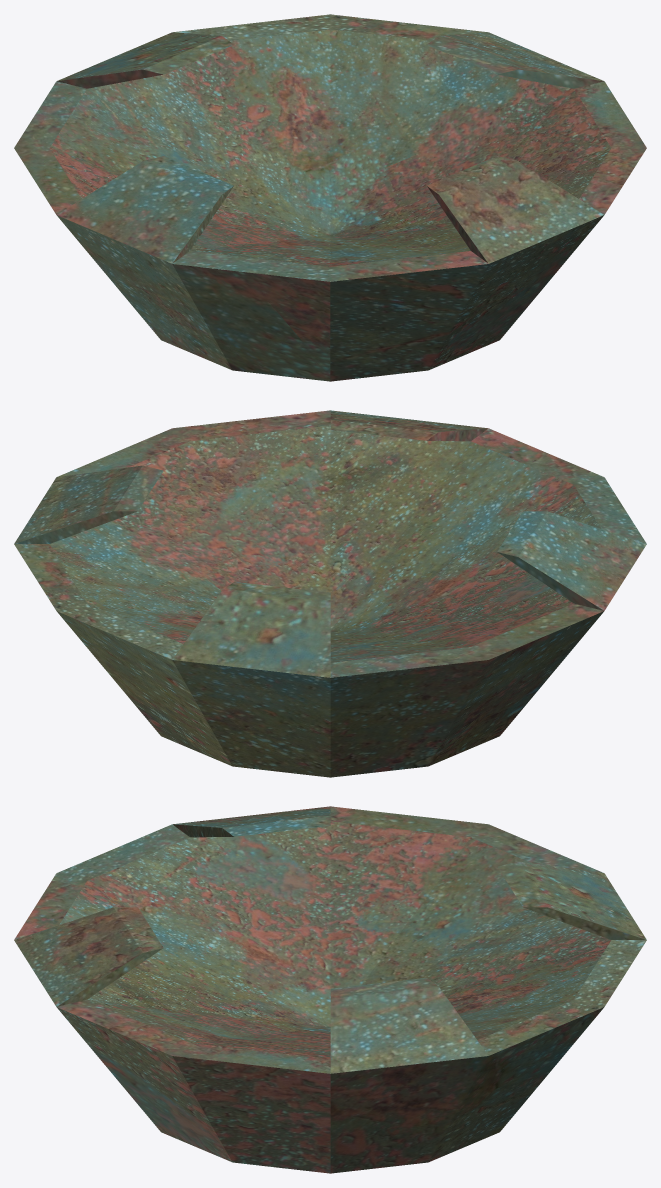
The model's file is brazier.fbx.
3 views of the same model, one above another, from view 1: azimuth 30°, elevation 25°; view 2: azimuth 150°, elevation 25°; view 3: azimuth 270°, elevation 25° (orthographic).
Visible parts, largest first — view 1: Sphere; view 2: Sphere; view 3: Sphere.
Part boxes in pixels (box(x1,y1,x2,y2)): Sphere: box(14, 14, 646, 381); Sphere: box(14, 410, 646, 777); Sphere: box(14, 806, 646, 1173).
Bounding box in the file's own units: 190 × 190 × 79.98.
2 materials, 2 textured.
